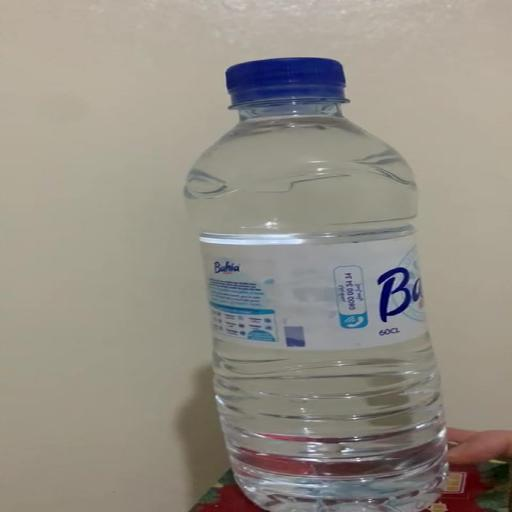bouteille conformite: (185, 57, 445, 511)
